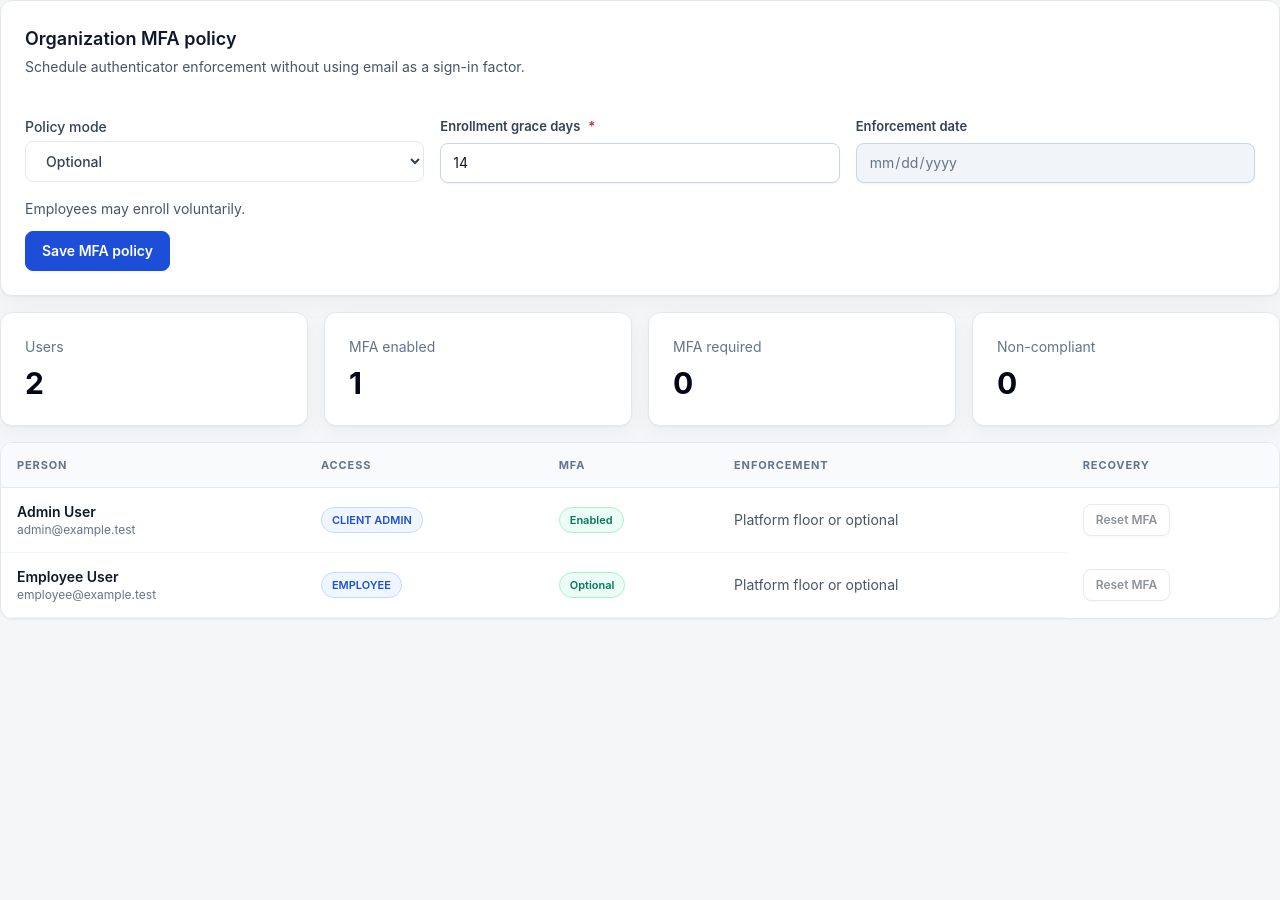
it: administrator schedules tenant-wide MFA enforcement
This screenshot has width=1280, height=900.
Select "All users" in the dropdown labelled "Policy mode" at [225, 162], box [25, 141, 424, 182]
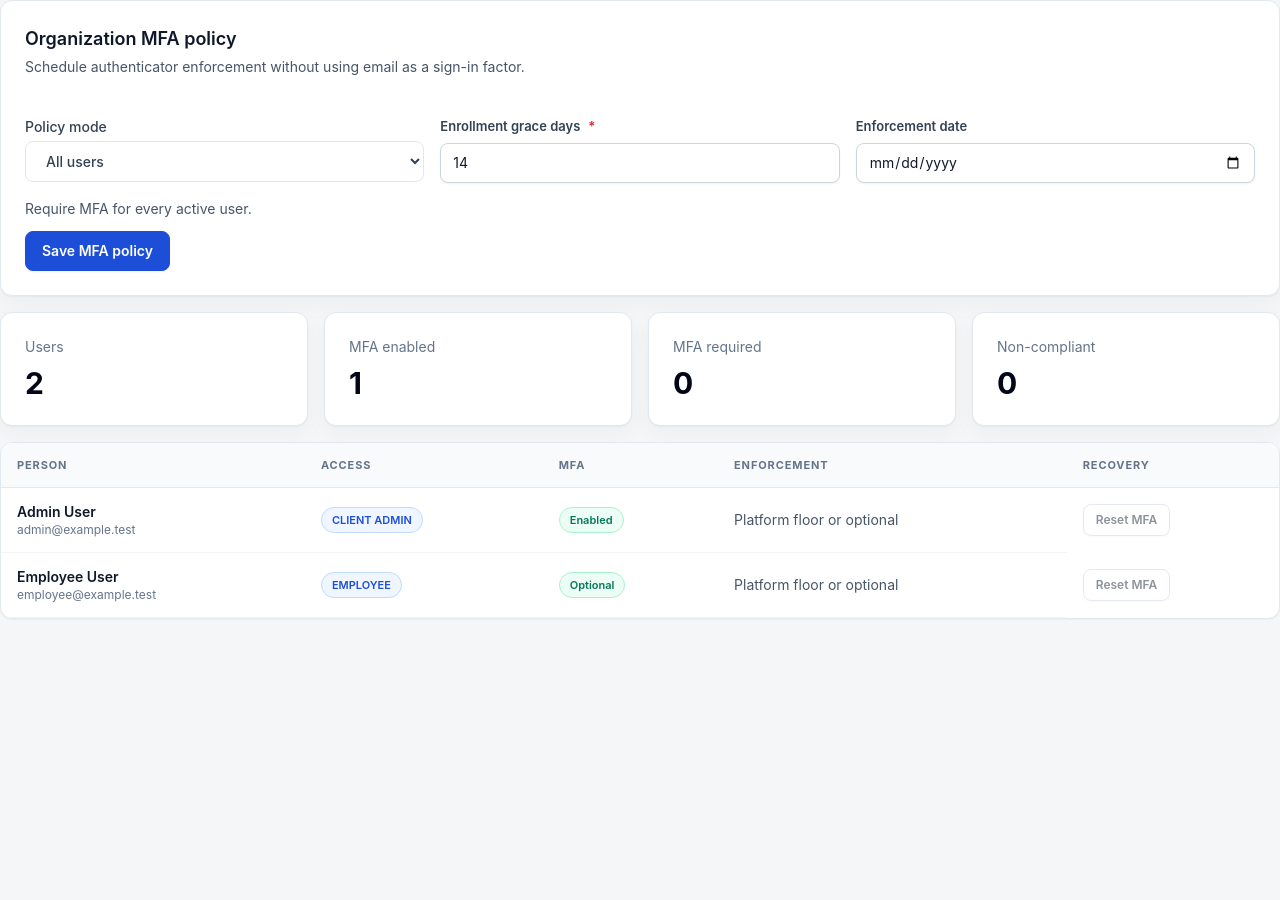
Replace the text in the number field labelled "Enrollment grace days" with "30" at [640, 162], box [440, 142, 840, 182]
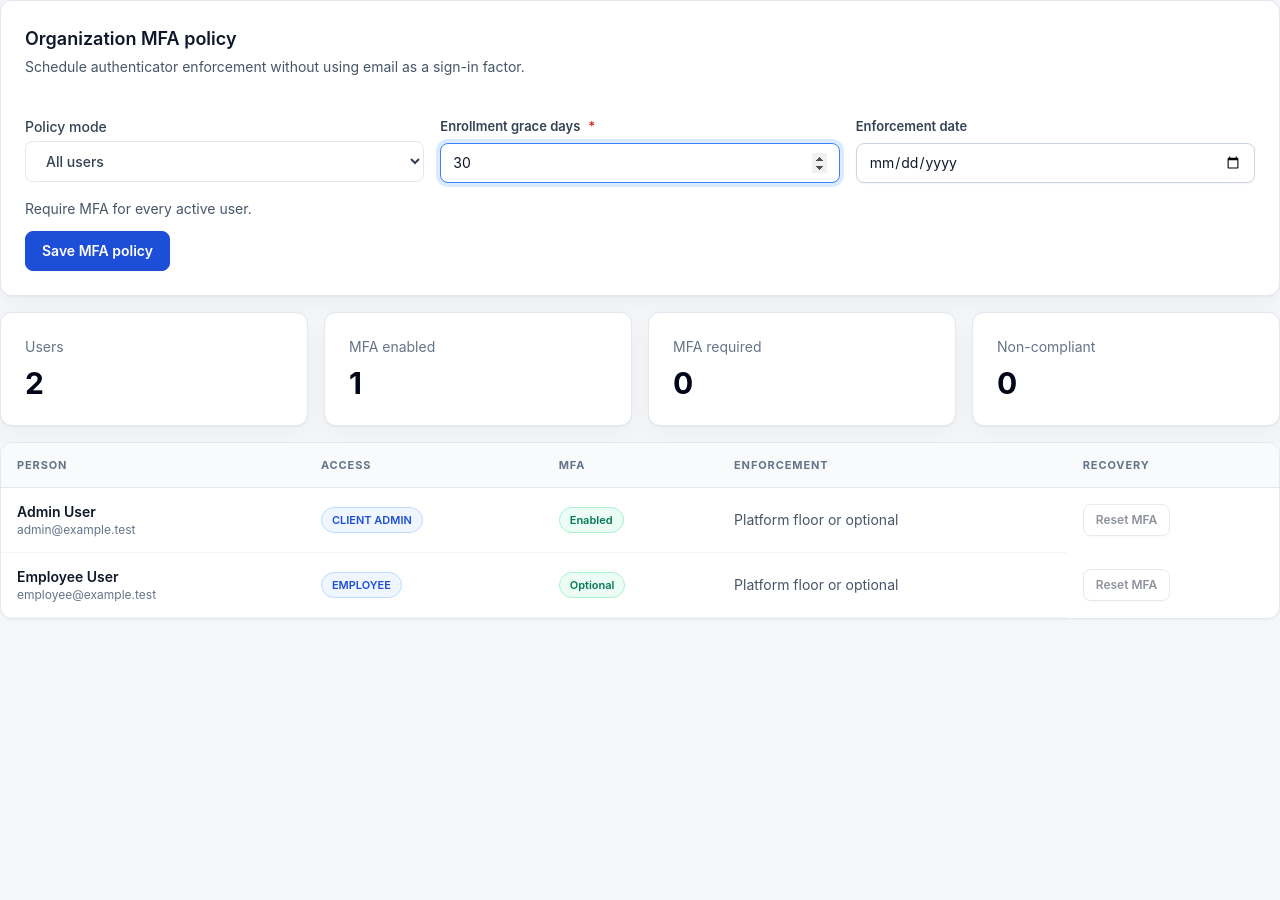
Type "2026-08-29" into the date field labelled "Enforcement date" at [1055, 162], box [856, 142, 1255, 182]
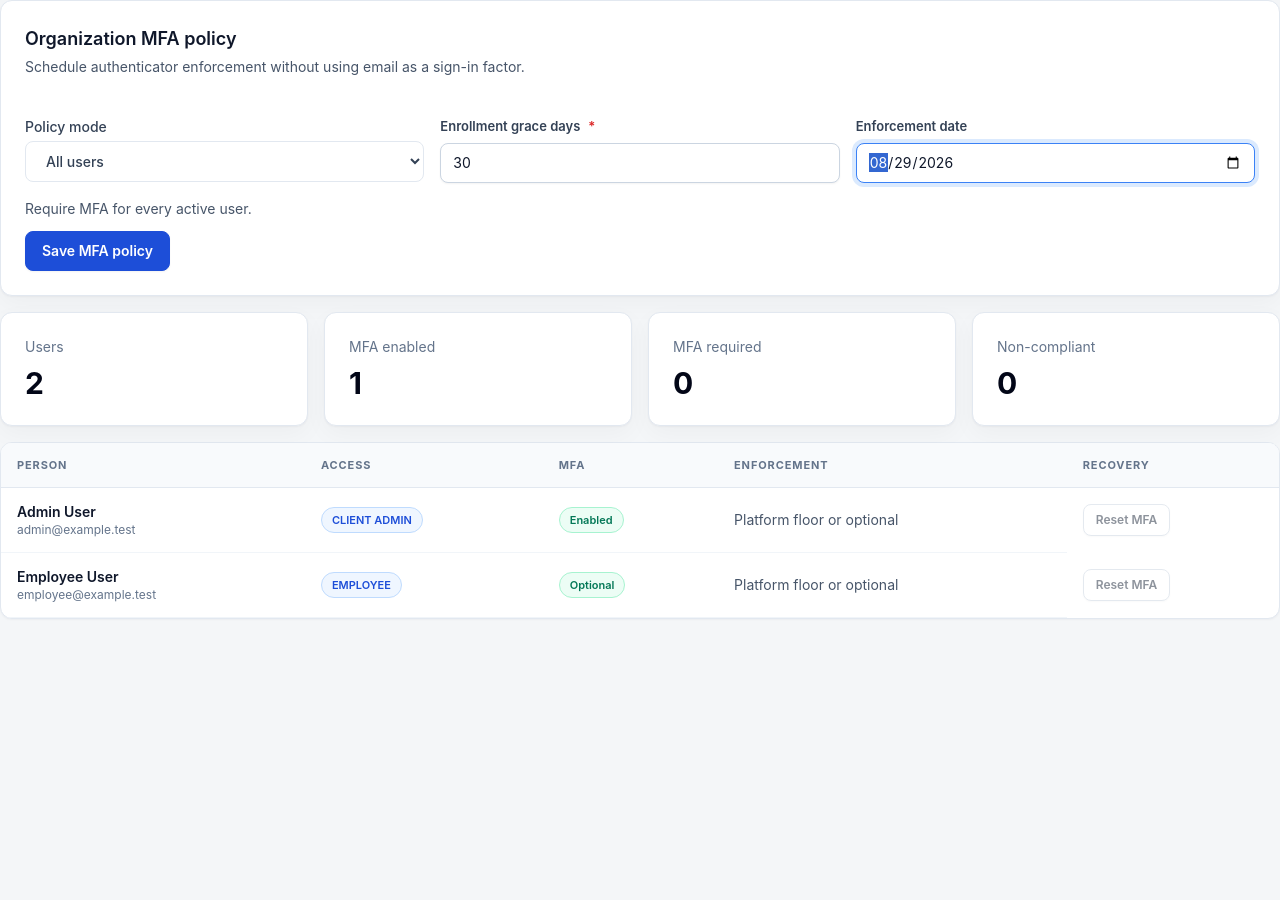
Click the button "Save MFA policy" at [98, 250], box [25, 230, 170, 270]
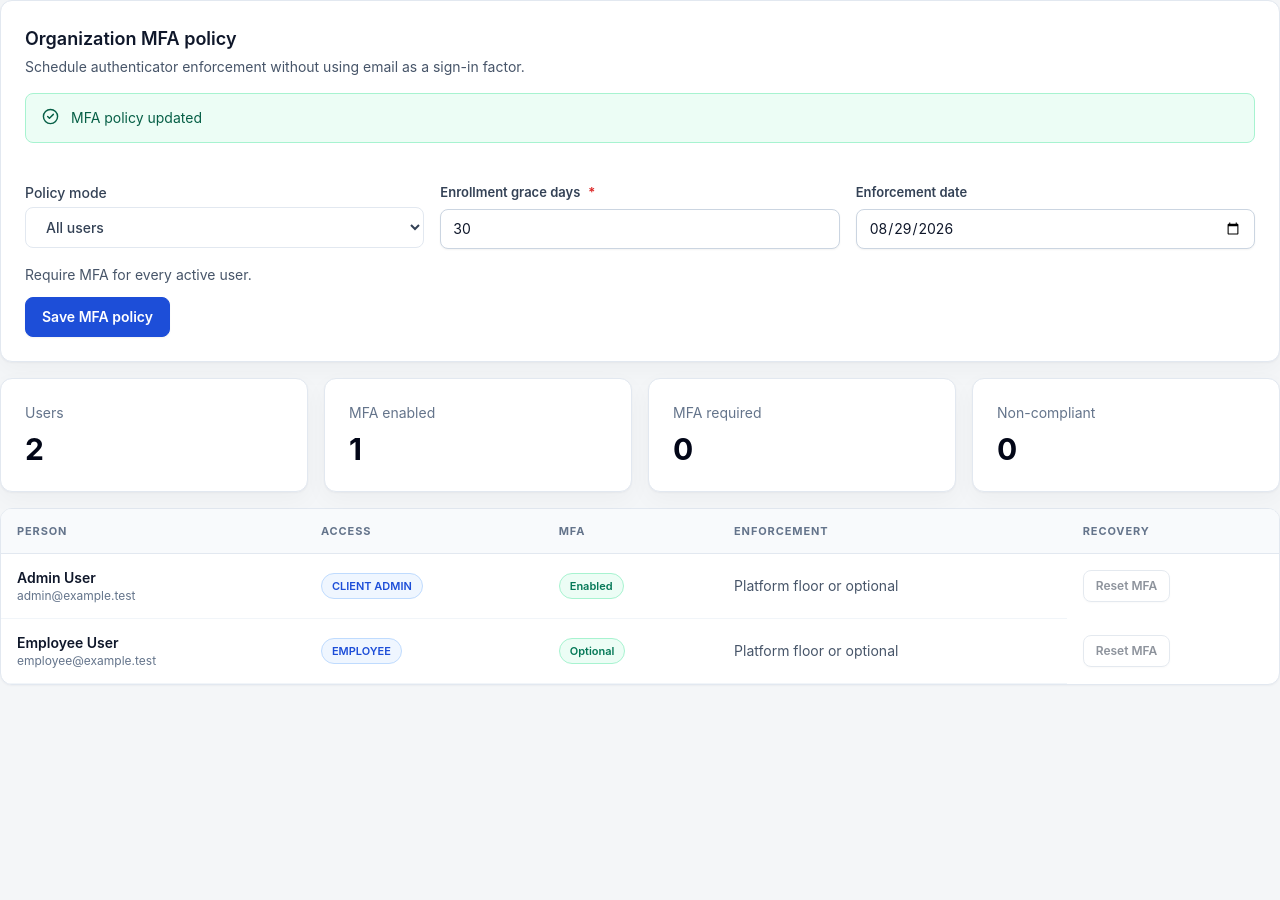
Now the text "MFA policy updated" is shown, box [71, 106, 202, 130]
